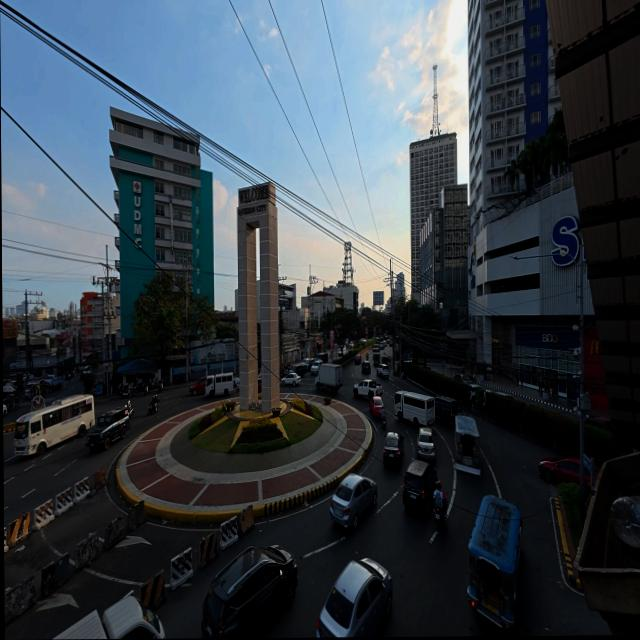bus: (10, 393, 92, 461)
car: (201, 542, 297, 639), (321, 556, 395, 638), (329, 472, 379, 529), (381, 431, 403, 467), (415, 430, 437, 460), (368, 398, 386, 422), (281, 373, 302, 388)
trucks: (353, 379, 379, 399)
